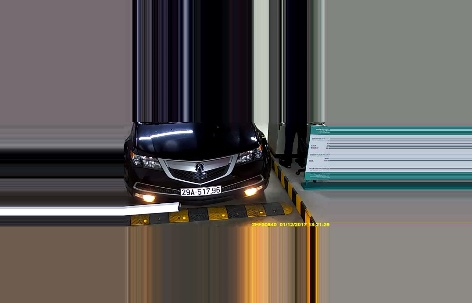plate: (177, 184, 223, 197)
